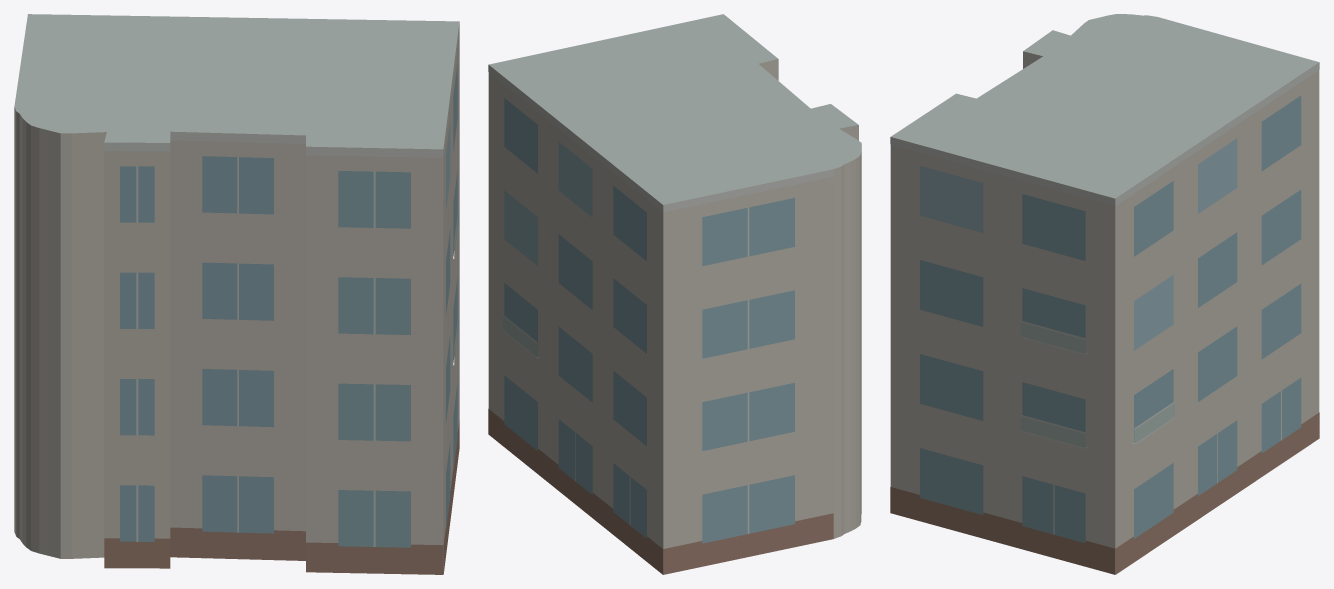
The model's file is survey-upis-32680396.glb.
The picture shows the model from 3 angles, left to right: view 1: azimuth 30°, elevation 25°; view 2: azimuth 150°, elevation 25°; view 3: azimuth 270°, elevation 25°; orthographic projection. The views are drawn at different scales.
Visible parts, largest first — view 1: survey-upis-32680396.tmp; view 2: survey-upis-32680396.tmp; view 3: survey-upis-32680396.tmp.
Boxes of the visible parts, <box> form: survey-upis-32680396.tmp: <box>14,14,459,574</box>; survey-upis-32680396.tmp: <box>488,14,861,574</box>; survey-upis-32680396.tmp: <box>890,14,1319,574</box>.
Bounding box in the file's own units: 12.85 × 12.2 × 12.62.
